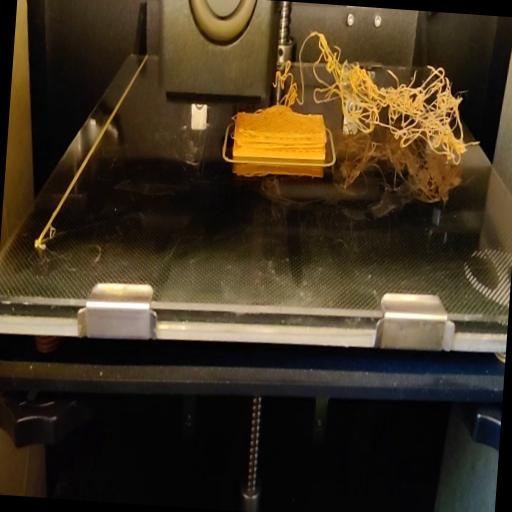spaghetti: (271, 26, 491, 165)
